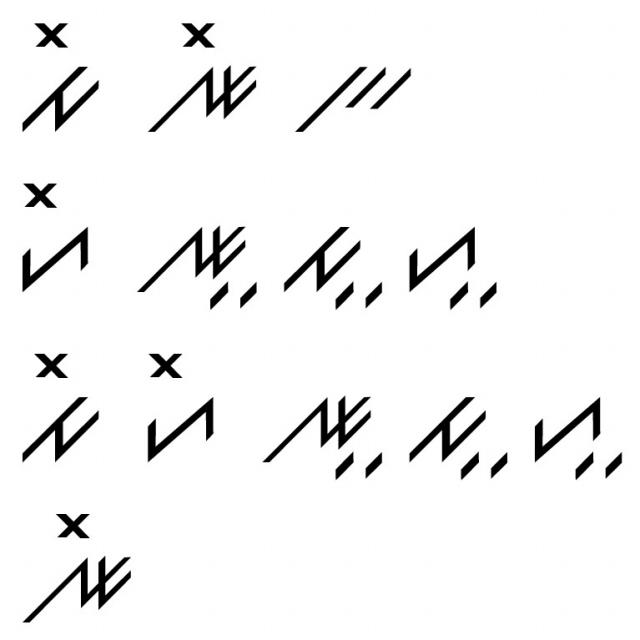hah: (398, 207, 500, 314), (528, 392, 624, 492)
ho: (9, 175, 105, 299), (129, 349, 224, 470)
mbah: (398, 387, 513, 494), (276, 216, 386, 316)
mbo: (14, 10, 109, 139), (18, 342, 108, 469)
ndah: (265, 375, 392, 485), (131, 214, 264, 314)
ndo: (144, 7, 262, 145), (20, 506, 140, 638)
